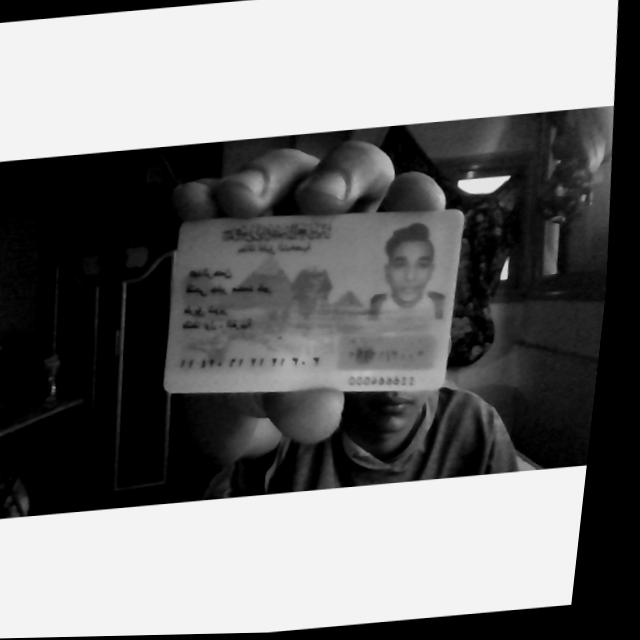id_card: (163, 208, 462, 391)
